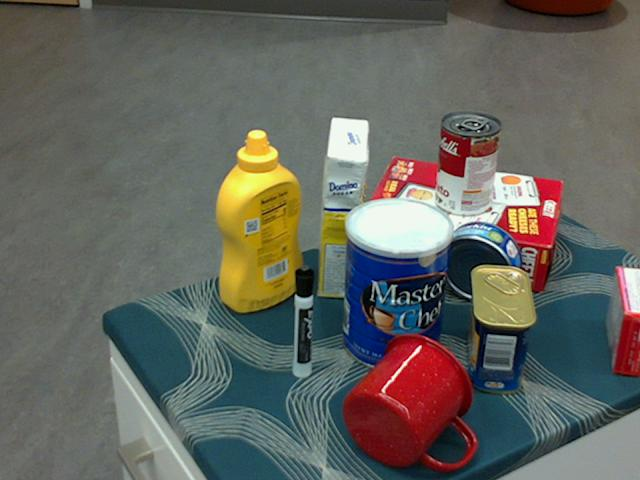cracker_box: (359, 159, 560, 289)
gelatin_box: (605, 267, 639, 377)
large_marker: (291, 264, 313, 379)
master_chef_can: (342, 197, 455, 373)
mug: (343, 333, 475, 471)
mustard_bottle: (214, 130, 303, 313)
potted_meat_can: (465, 265, 538, 393)
sugar_box: (317, 118, 369, 301)
tomato_soup_can: (435, 112, 501, 217)
tuna_fish_can: (439, 220, 522, 301)
